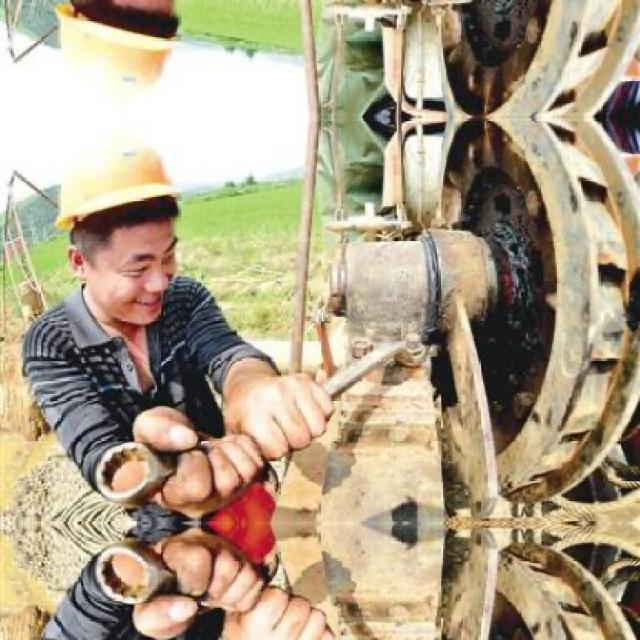helmet: (48, 120, 208, 325), (47, 0, 209, 112)
